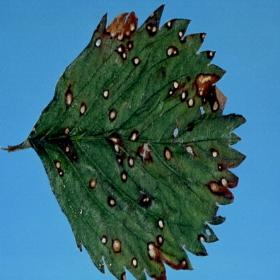Leaf Spot: (28, 3, 248, 279)
